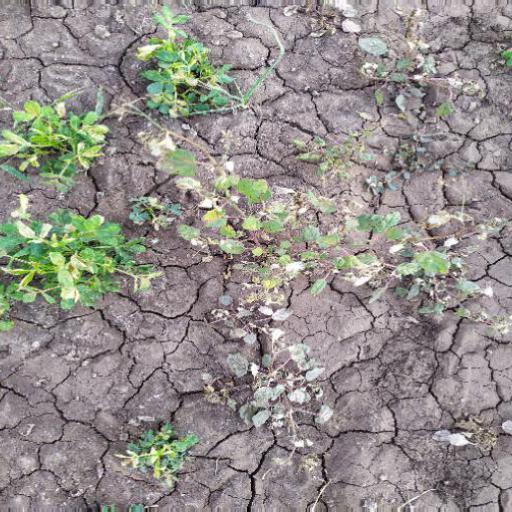weed: (1, 93, 166, 360), (178, 166, 476, 304), (107, 416, 222, 478)
